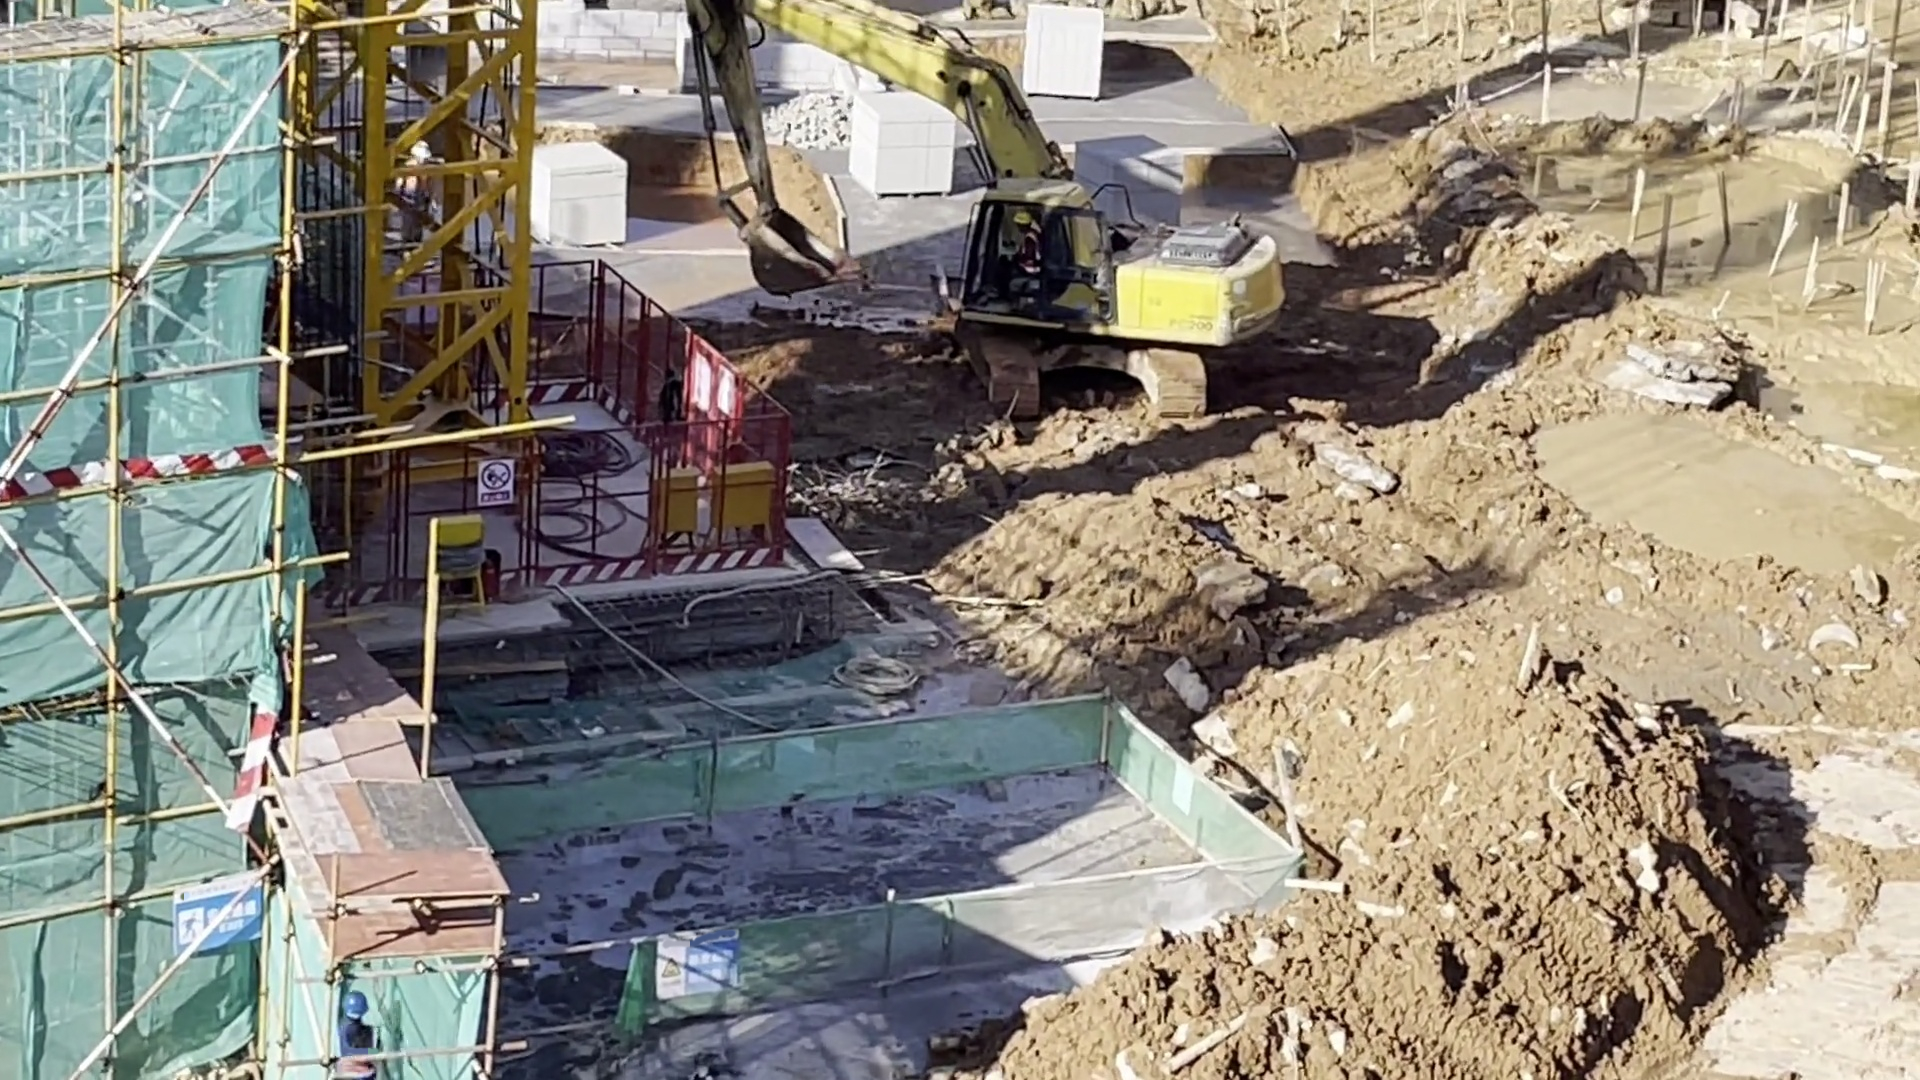brick: (857, 107, 944, 207), (1089, 148, 1188, 233), (531, 152, 616, 249), (1028, 12, 1111, 92)
helmet: (342, 985, 369, 1018), (1017, 207, 1035, 230)
person: (323, 990, 393, 1080), (1005, 211, 1049, 302)
slogan: (651, 937, 737, 994), (178, 889, 260, 941), (478, 466, 519, 512)
vest: (333, 1024, 385, 1080), (1007, 234, 1042, 281)
